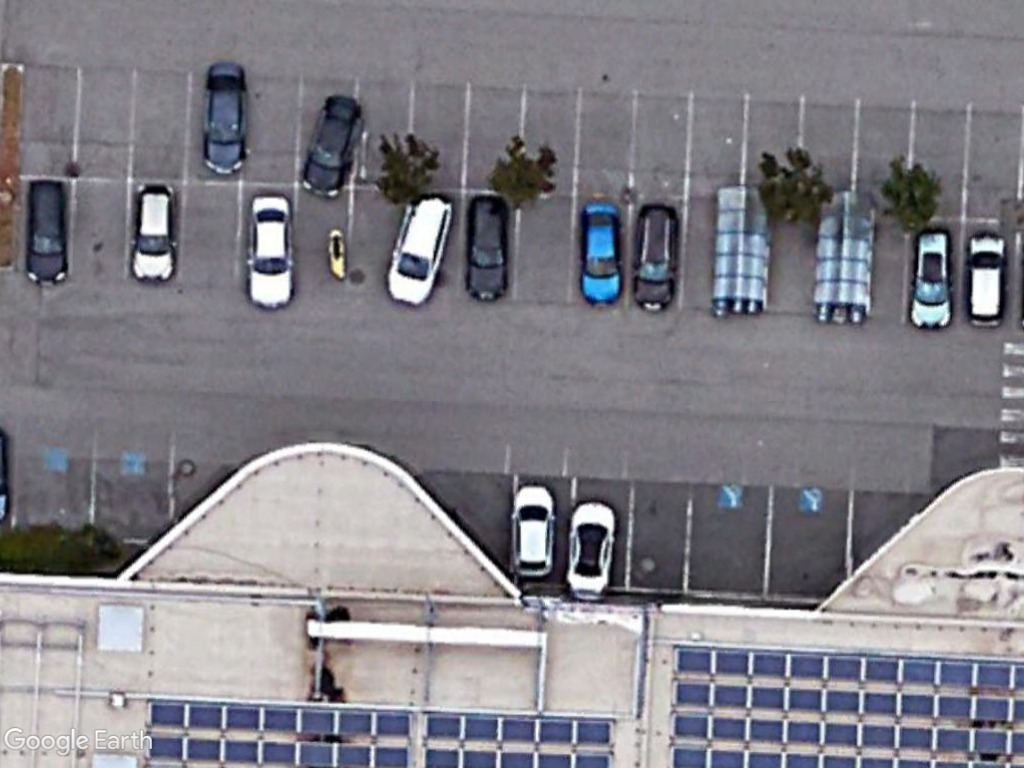car: (382, 186, 453, 309), (295, 91, 365, 199), (196, 60, 253, 179), (628, 197, 686, 313), (17, 174, 77, 286), (245, 187, 296, 312), (562, 495, 622, 601), (460, 192, 514, 308), (124, 177, 180, 288), (506, 478, 562, 581), (960, 223, 1011, 333), (906, 220, 956, 332), (576, 196, 626, 308)
